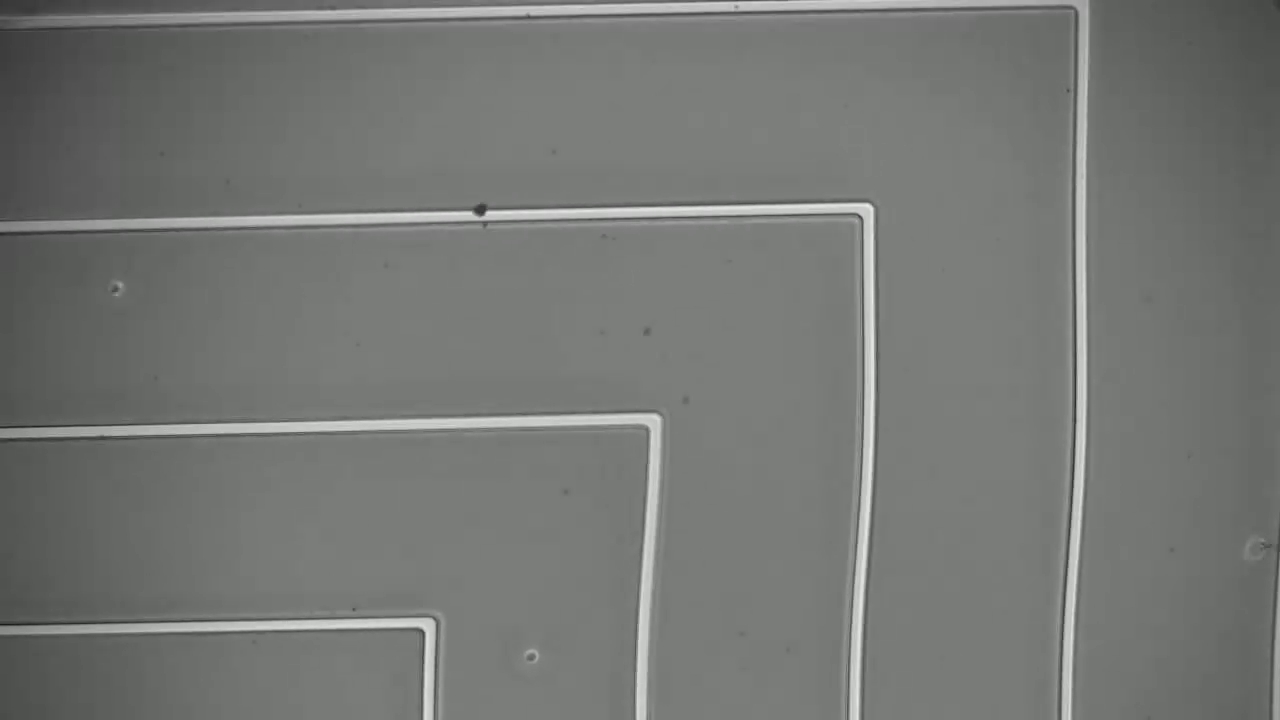stains_enbedded: (465, 194, 499, 233)
